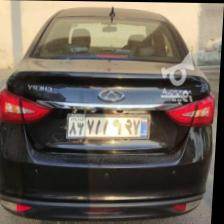plate: (66, 113, 154, 140)
